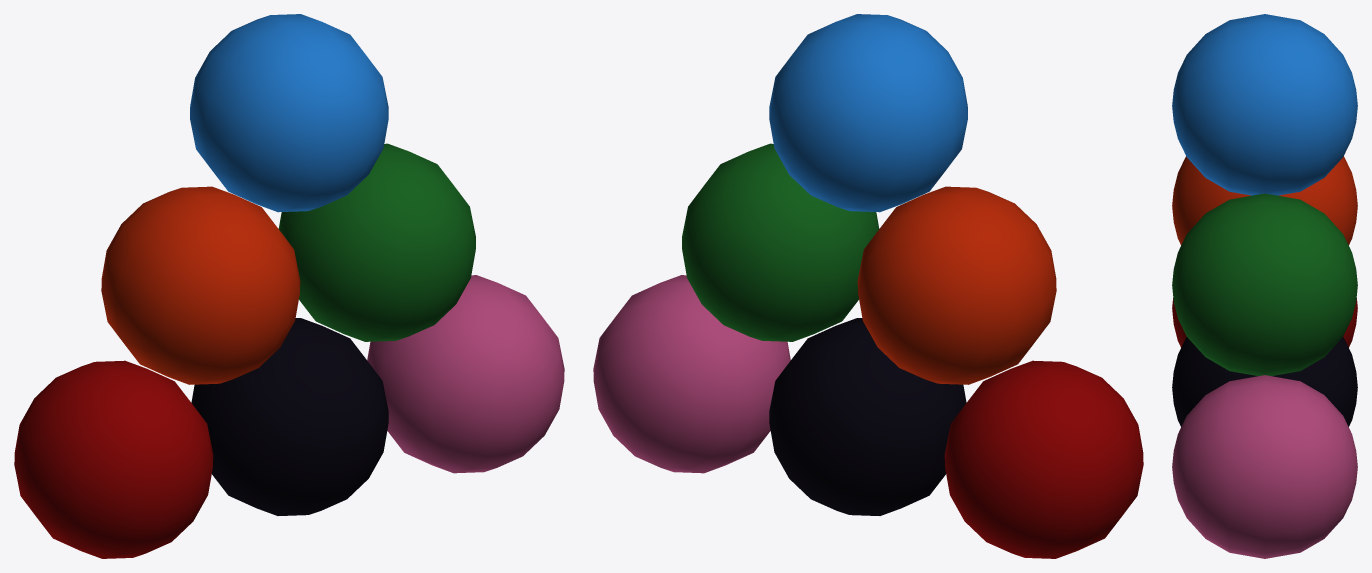
File: Billiard balls.FBX
The picture shows the model from 3 angles, left to right: view 1: azimuth 30°, elevation 25°; view 2: azimuth 150°, elevation 25°; view 3: azimuth 270°, elevation 25°; orthographic projection. The views are drawn at different scales.
Visible parts, largest first — view 1: Billiard balls; view 2: Billiard balls; view 3: Billiard balls.
Boxes of the visible parts, x1,y1,x2,y2 form: Billiard balls: (14, 14, 564, 558); Billiard balls: (593, 14, 1143, 558); Billiard balls: (1172, 14, 1357, 558).
Size of the model in its own units: 1016 by 337 by 898.
